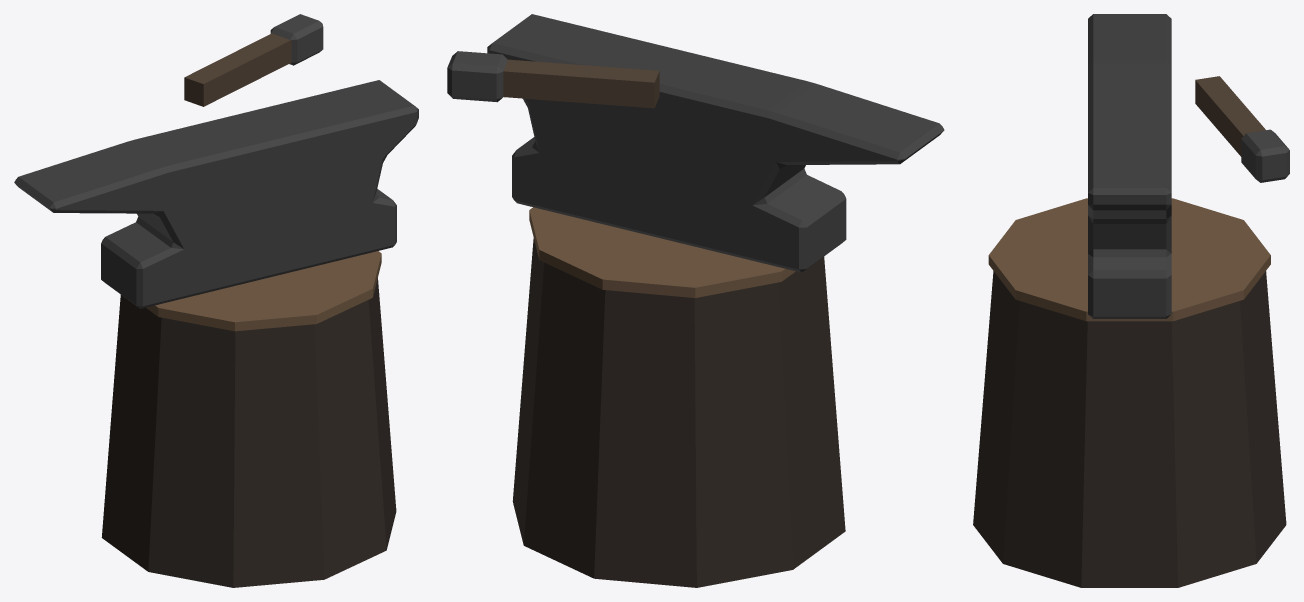
The model's file is anvil.glb.
The picture shows the model from 3 angles, left to right: view 1: azimuth 30°, elevation 25°; view 2: azimuth 150°, elevation 25°; view 3: azimuth 270°, elevation 25°; orthographic projection. The views are drawn at different scales.
Parts seen in each view (by area): view 1: anvil; view 2: anvil; view 3: anvil.
Boxes of the visible parts, x1=… form: anvil: x1=14, y1=14, x2=418, y2=587; anvil: x1=447, y1=14, x2=944, y2=587; anvil: x1=973, y1=14, x2=1289, y2=587.
Size of what is drawn, in the model's own units: 0.85 by 0.935 by 0.6066.
